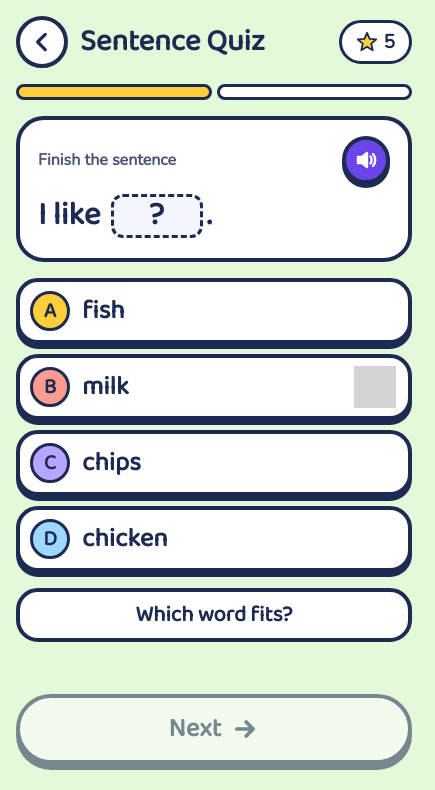
Test: SentencePick screen › posts the first-try score when the game finishes
Click the button with aria-label "A: fish".
click(50, 311)  # box top-left (16, 278), bottom-right (412, 344)
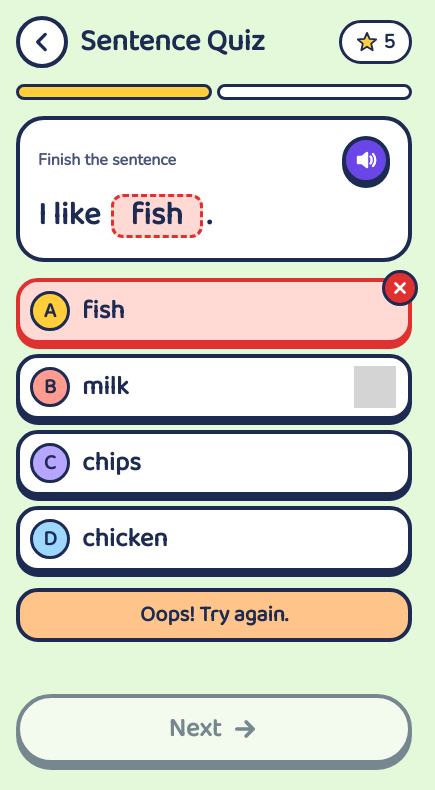
Click the button with aria-label "B: milk".
click(50, 387)  # box top-left (16, 354), bottom-right (412, 420)
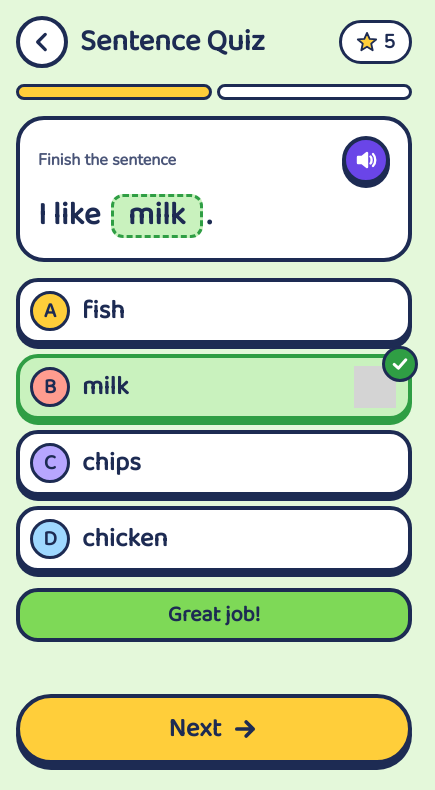
Click the button "Next".
click(214, 729)  # box top-left (16, 694), bottom-right (412, 764)
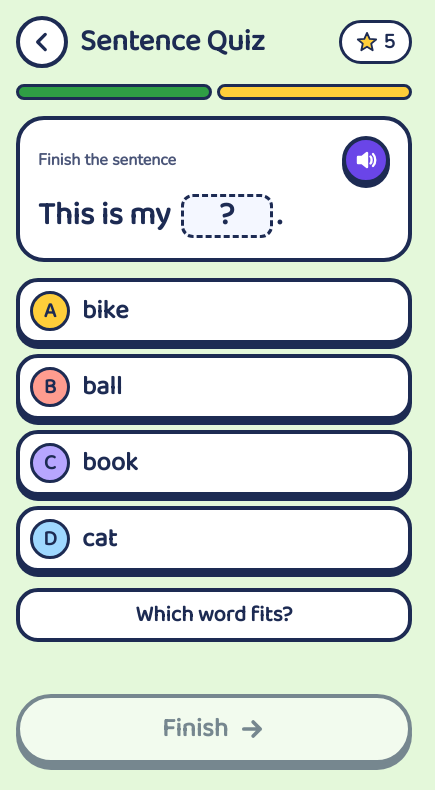
Click the button with aria-label "A: bike".
click(50, 311)  # box top-left (16, 278), bottom-right (412, 344)
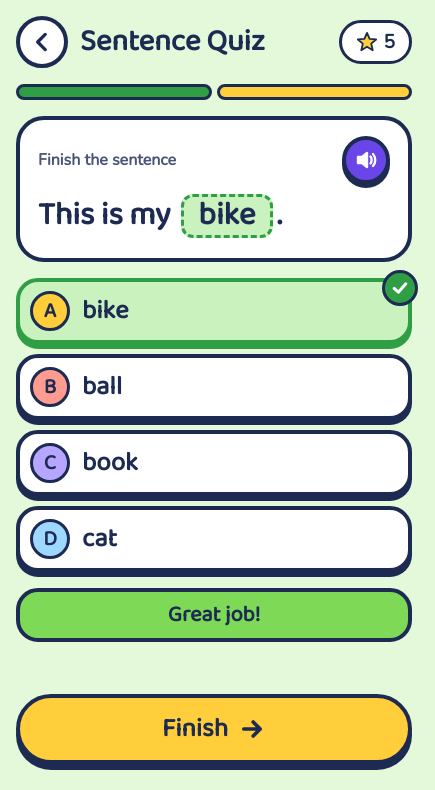
Click the button "Finish".
click(214, 729)  # box top-left (16, 694), bottom-right (412, 764)
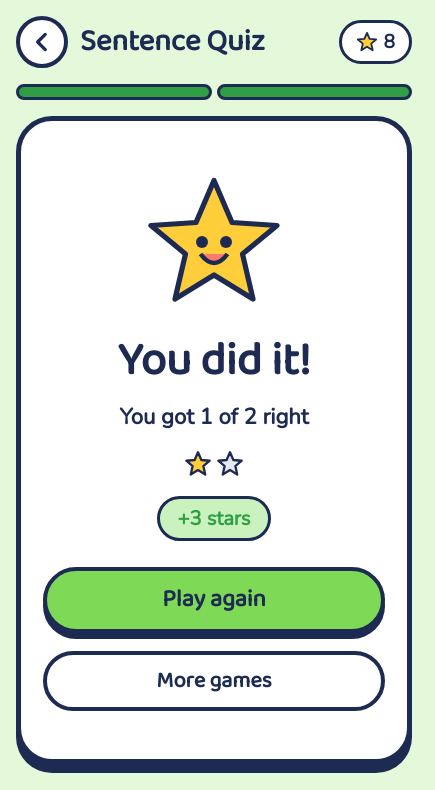
Check: the heading "You did it!" is shown, box top-left (117, 338), bottom-right (311, 384)
Check: the text "You got 1 of 2 right" is shown, box top-left (120, 402), bottom-right (308, 432)
Check: the picture named "8 stars" is shown, box top-left (339, 20), bottom-right (412, 64)
